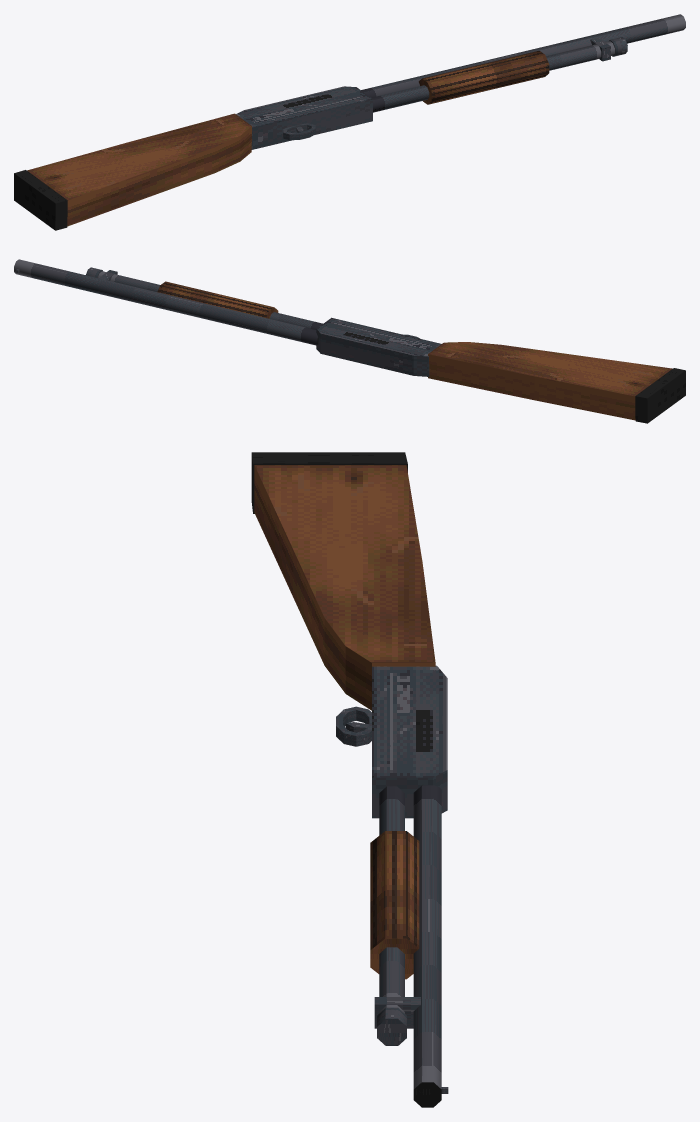
Rendered from shotgun.glb.
The picture shows the model from 3 angles, top to bottom: view 1: azimuth 30°, elevation 25°; view 2: azimuth 150°, elevation 25°; view 3: azimuth 270°, elevation 25°; orthographic projection. The views are drawn at different scales.
Parts seen in each view (by area): view 1: shotgun; view 2: shotgun; view 3: shotgun.
Part boxes in pixels (bbox=[...]): shotgun: bbox=[14, 14, 685, 230]; shotgun: bbox=[14, 259, 685, 423]; shotgun: bbox=[251, 452, 448, 1107].
Bounding box in the file's own units: 1.09 × 0.0433 × 0.1485.
Materials: 1 (1 with a texture image).
